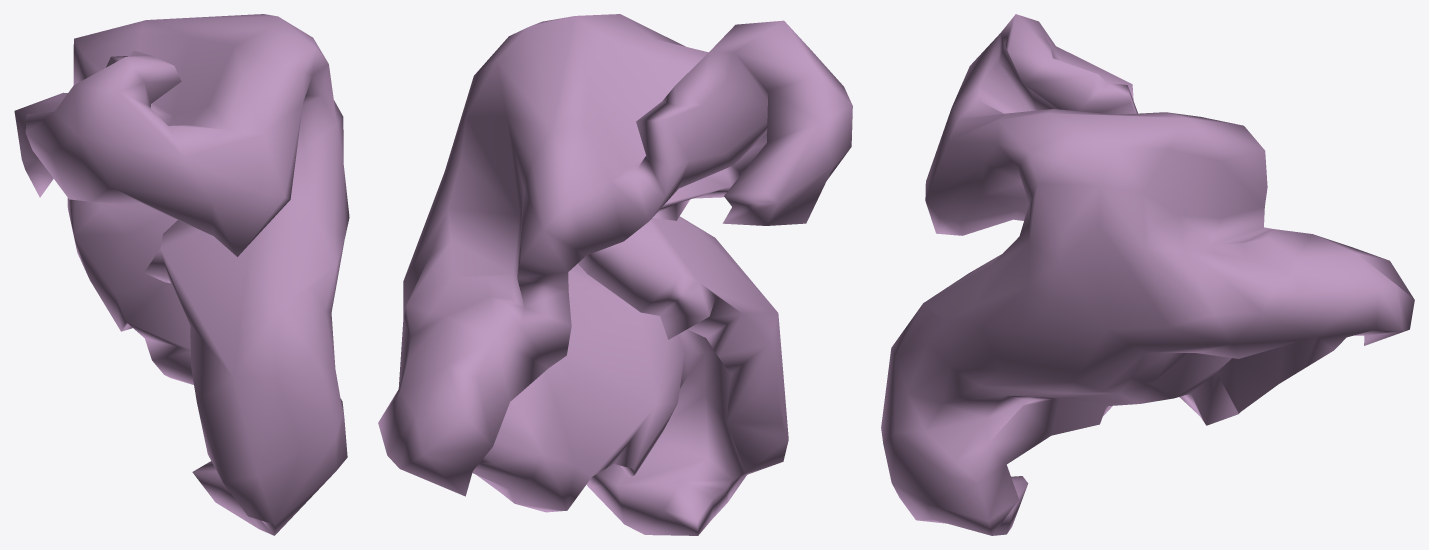
3 views of the same model, side by side, from view 1: azimuth 30°, elevation 25°; view 2: azimuth 150°, elevation 25°; view 3: azimuth 270°, elevation 25° (orthographic). The views are drawn at different scales.
Visible parts, largest first — view 1: 右侧中央旁回与中央旁沟; view 2: 右侧中央旁回与中央旁沟; view 3: 右侧中央旁回与中央旁沟.
Part boxes in pixels (box(x1,y1,x2,y2)): 右侧中央旁回与中央旁沟: box(14, 14, 349, 535); 右侧中央旁回与中央旁沟: box(378, 14, 852, 535); 右侧中央旁回与中央旁沟: box(881, 14, 1414, 535).
Bounding box in the file's own units: 0.0352 × 0.0529 × 0.0553.
